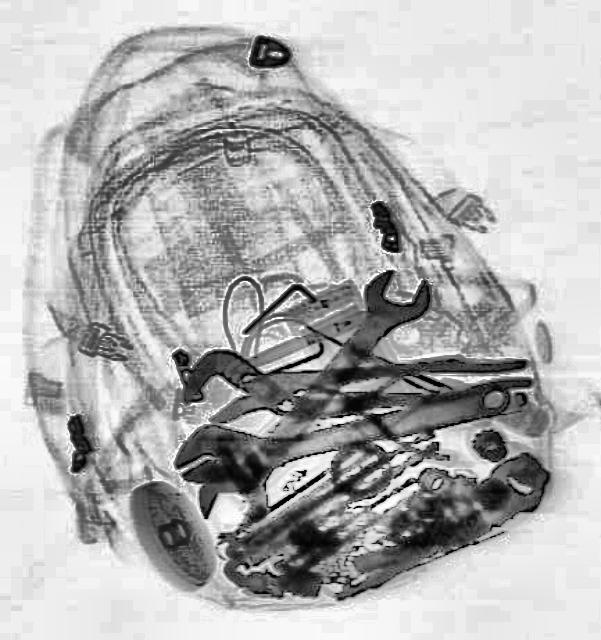Wrench: (185, 252, 440, 542), (163, 356, 517, 506)
